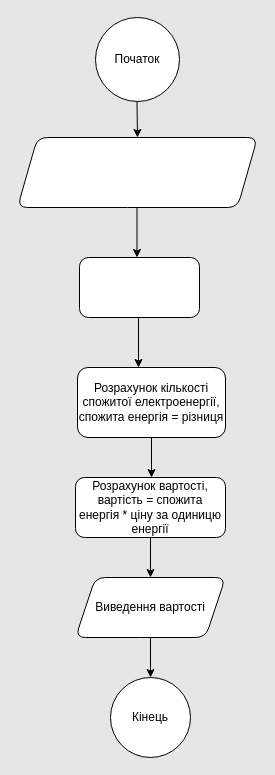
Some shapes in this 275 by 775 pixel diagram are drawn without their labels. Each missing label, with the centre of its shape:
"Введення показників лічильника в моменти часу t1 та t2" belongs at (x=137, y=172).
"Розрахунок різниці між показниками, різниця = t2 - t1" belongs at (x=139, y=287).
